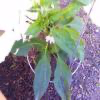Bell_pepper leaf: (52, 27, 85, 63), (53, 56, 72, 99), (33, 58, 52, 99), (61, 1, 89, 15), (10, 40, 31, 55), (23, 21, 42, 35)
